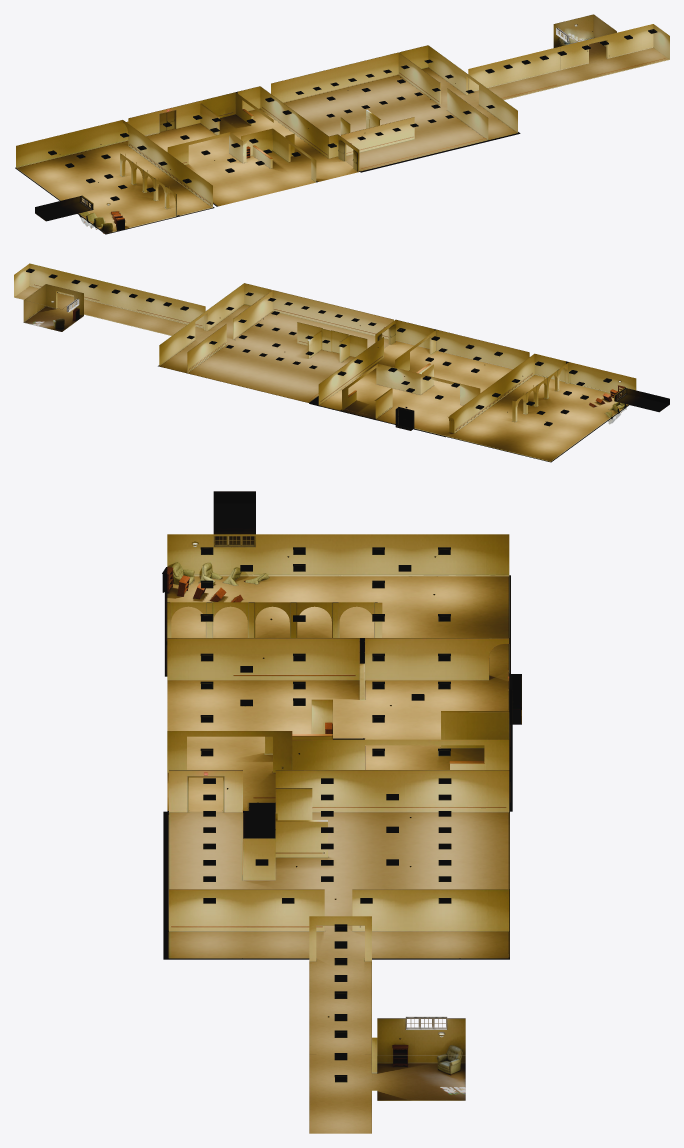
Rendered from backrooms.glb.
The picture shows the model from 3 angles, top to bottom: view 1: azimuth 30°, elevation 25°; view 2: azimuth 150°, elevation 25°; view 3: azimuth 270°, elevation 25°; orthographic projection. The views are drawn at different scales.
Parts seen in each view (by area): view 1: Object_24, Object_18, Object_30, Object_28, Object_38, Object_34, Object_14, Object_22, Object_52, Object_36, Object_42, Object_46 (+2 smaller); view 2: Object_24, Object_30, Object_18, Object_28, Object_38, Object_14, Object_34, Object_22, Object_52, Object_36, Object_42, Object_46 (+2 smaller); view 3: Object_24, Object_18, Object_28, Object_38, Object_30, Object_34, Object_22, Object_52, Object_14, Object_44, Object_32, Object_6 (+2 smaller).
Boxes of the visible parts, x1,y1,x2,y2 form: Object_24: (283,67,520,172); Object_18: (271,45,517,155); Object_30: (15,141,214,234); Object_28: (126,108,358,206); Object_38: (125,86,359,181); Object_34: (16,120,212,221); Object_14: (468,14,669,94); Object_22: (468,38,668,102); Object_52: (48,30,656,200); Object_36: (16,14,669,233); Object_42: (129,58,665,203); Object_46: (159,110,357,170); Object_24: (158,304,389,403); Object_30: (446,374,629,462); Object_18: (159,283,393,372); Object_28: (309,341,512,437); Object_38: (318,319,529,432); Object_14: (14,263,205,330); Object_34: (449,353,669,433); Object_22: (15,286,205,338); Object_52: (26,269,611,426); Object_36: (14,284,628,461); Object_42: (34,284,532,430); Object_46: (379,324,414,428); Object_24: (163,811,509,959); Object_18: (169,770,509,931); Object_28: (167,677,512,811); Object_38: (167,638,521,772); Object_30: (164,575,510,677); Object_34: (167,491,509,637); Object_22: (309,959,465,1133); Object_52: (200,549,451,1082); Object_14: (309,916,465,1072); Object_44: (171,562,463,1075); Object_32: (240,565,424,1060); Object_6: (162,567,408,1067).
Size of the model in its own units: 80.54 by 4.09 by 20.36.
28 materials, 27 textured.
